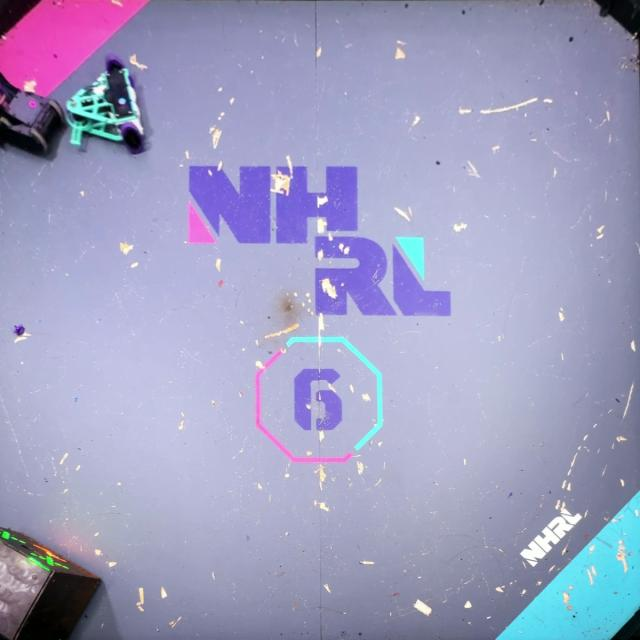housebot: (0, 526, 100, 638)
robot: (64, 54, 150, 155), (0, 69, 65, 159)
